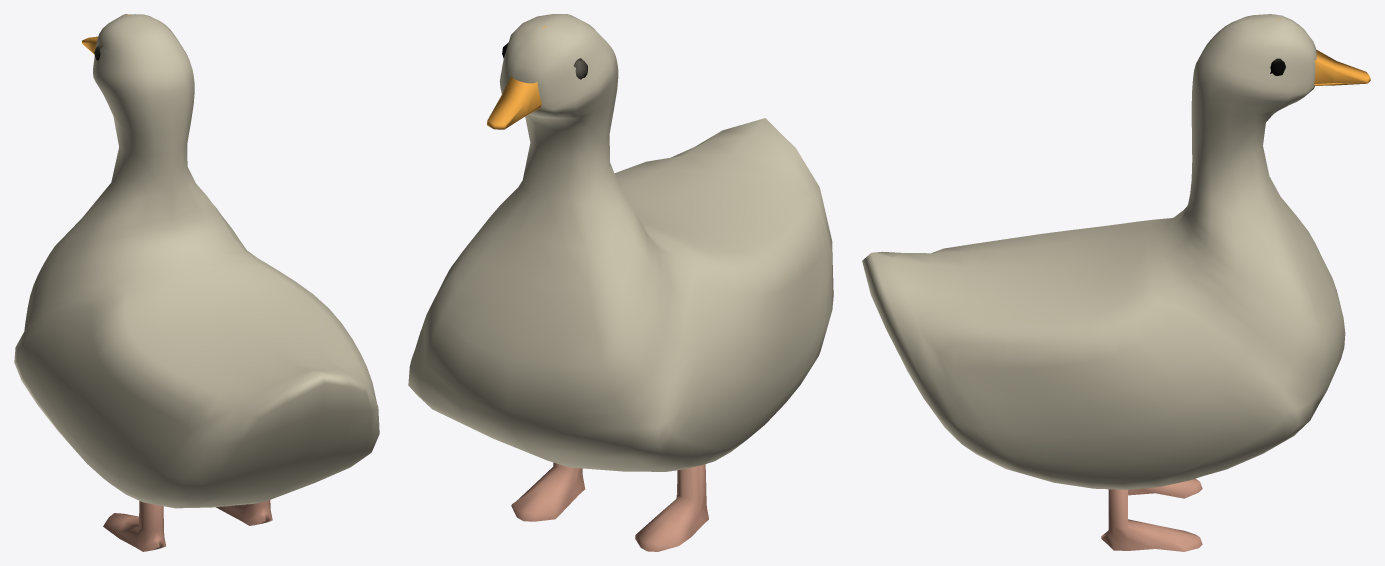
File: Paintable_Goose.fbx
The picture shows the model from 3 angles, left to right: view 1: azimuth 30°, elevation 25°; view 2: azimuth 150°, elevation 25°; view 3: azimuth 270°, elevation 25°; orthographic projection. The views are drawn at different scales.
Parts seen in each view (by area): view 1: Paintable_Goose_LOD0; view 2: Paintable_Goose_LOD0; view 3: Paintable_Goose_LOD0.
Part boxes in pixels (<box>): Paintable_Goose_LOD0: <box>14,14,379,551</box>; Paintable_Goose_LOD0: <box>408,14,833,551</box>; Paintable_Goose_LOD0: <box>862,14,1370,551</box>.
Size of the model in its own units: 0.6811 by 1.17 by 1.26.
